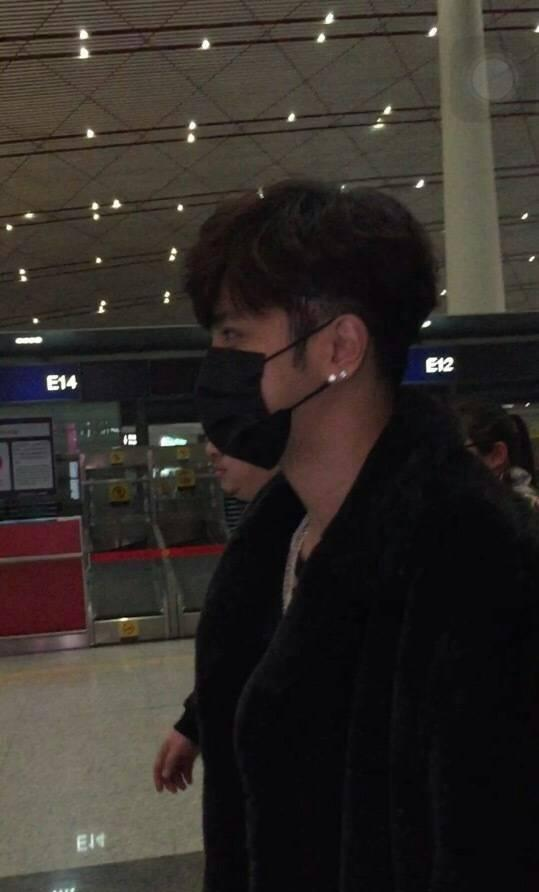OK: (190, 293, 355, 458)
